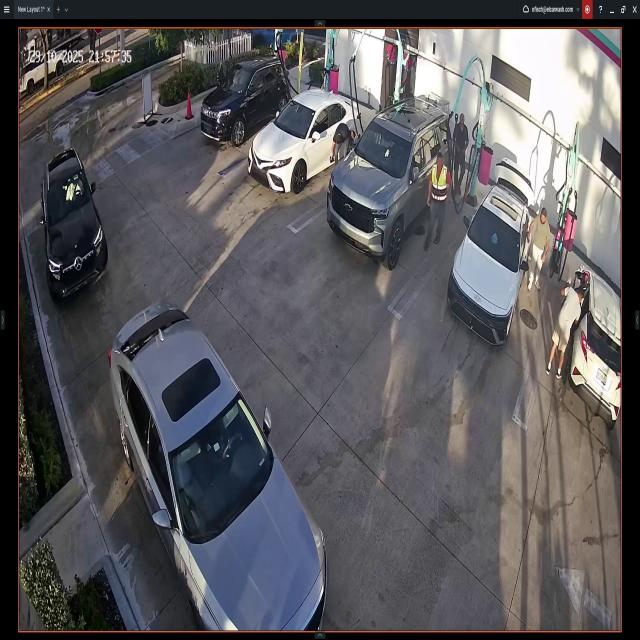Car: (109, 296, 327, 633), (325, 96, 452, 268), (449, 166, 532, 344), (247, 90, 361, 192), (39, 149, 109, 300), (570, 266, 622, 424), (201, 58, 291, 146), (249, 29, 304, 54)
